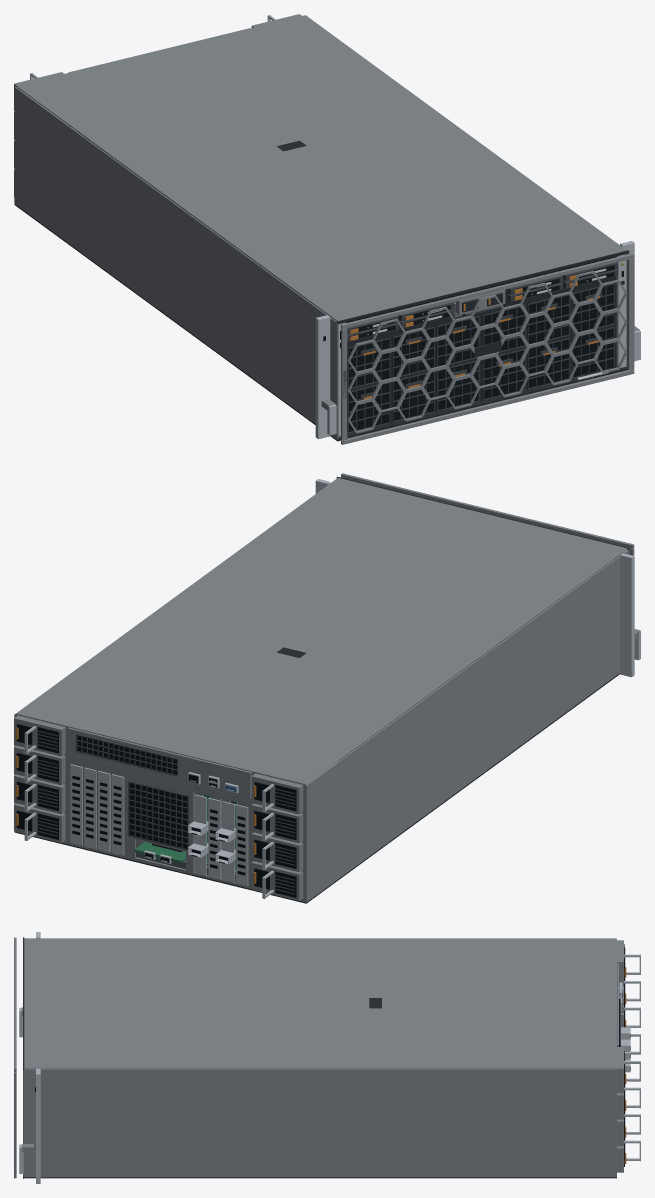
Rendered from poweredge-xe7745.glb.
The picture shows the model from 3 angles, top to bottom: view 1: azimuth 30°, elevation 25°; view 2: azimuth 150°, elevation 25°; view 3: azimuth 270°, elevation 25°; orthographic projection. The views are drawn at different scales.
Visible parts, largest first — view 1: top_cover, chassis_shell, bezel_honeycomb, bezel_perimeter, front, front_panel, rack_ear_left, front_frame, front_grille_right_2_1, front_grille_left_3_1, front_grille_right_2_2, front_grille_right_1_1 (+11 smaller); view 2: top_cover, chassis_shell, rear, rear_panel, rear_center_vent, rear_io_region, rack_ear_left, rear_upper_vent, bezel_perimeter, chassis_bottom, rear_expansion_right_1, rear_expansion_left_4 (+6 smaller); view 3: top_cover, chassis_shell, rear, chassis_bottom, rack_ear_right, bezel_perimeter.
Part boxes in pixels (x1,y1,x2,y2): top_cover: (16,15,626,321); chassis_shell: (14,18,629,439); bezel_honeycomb: (347,270,627,433); bezel_perimeter: (341,253,634,444); front: (302,262,618,341); front_panel: (335,256,616,433); rack_ear_left: (315,315,336,439); front_frame: (336,250,629,441); front_grille_right_2_1: (527,338,570,389); front_grille_left_3_1: (347,382,390,433); front_grille_right_2_2: (527,294,570,344); front_grille_right_1_1: (482,349,525,400); top_cover: (16,477,627,784); chassis_shell: (14,480,629,901); rear: (14,715,337,900); rear_panel: (14,713,307,902); rear_center_vent: (128,781,188,850); rear_io_region: (68,727,251,799); rack_ear_left: (620,553,640,677); rear_upper_vent: (76,734,178,776); bezel_perimeter: (341,473,634,555); chassis_bottom: (14,673,619,903); rear_expansion_right_1: (111,774,124,855); rear_expansion_left_4: (235,804,248,885); top_cover: (24,938,616,1069); chassis_shell: (23,1069,616,1177); rear: (617,940,640,1172); chassis_bottom: (23,1177,616,1178); rack_ear_right: (19,1068,40,1183); bezel_perimeter: (14,937,16,1178).
Bounding box in the file's own units: 0.482 × 0.1743 × 0.8996.
Materials: 26 (2 with a texture image).
